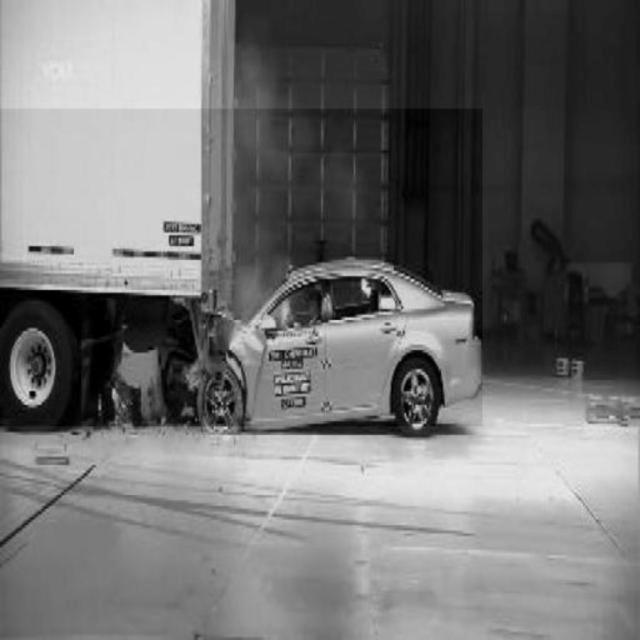accident: (0, 109, 482, 426)
